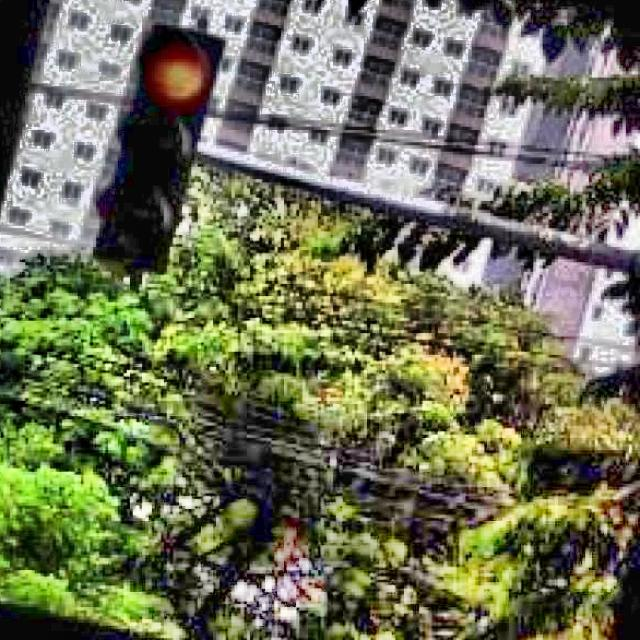red: (90, 21, 224, 270)
